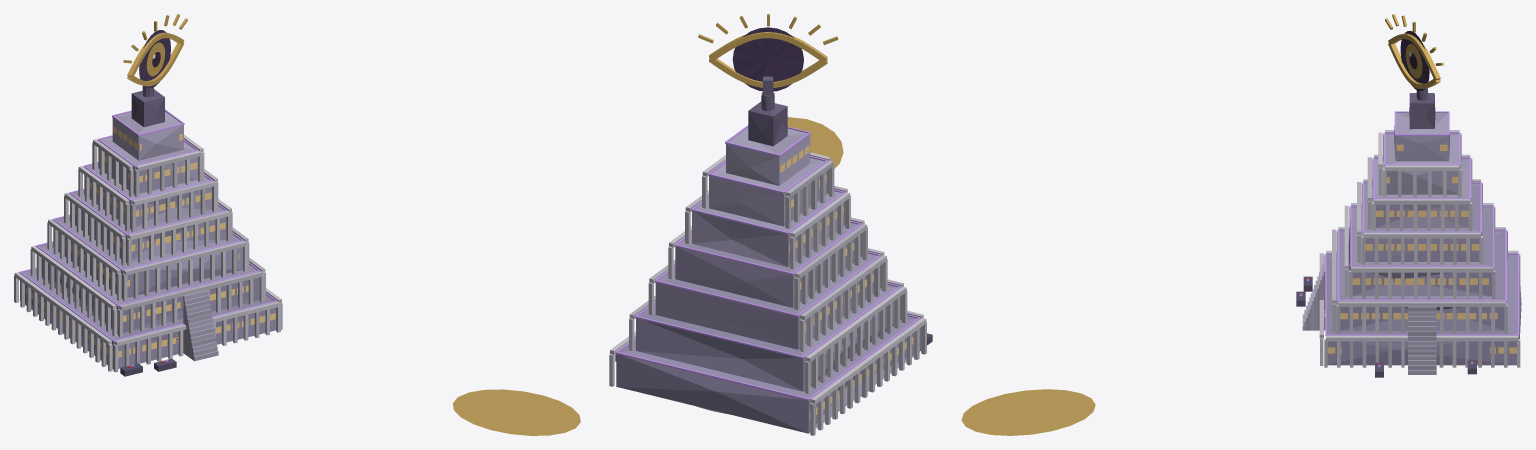
The model's file is halcyon_compound.glb.
The picture shows the model from 3 angles, left to right: view 1: azimuth 30°, elevation 25°; view 2: azimuth 150°, elevation 25°; view 3: azimuth 270°, elevation 25°; orthographic projection. The views are drawn at different scales.
Parts seen in each view (by area): view 1: hq_halcyon_toon, hq_halcyon_eye_neon, hq_halcyon_neon, hq_halcyon_win, hq_halcyon_eye_toon; view 2: hq_halcyon_toon, hq_halcyon_neon, hq_halcyon_eye_neon, hq_halcyon_eye_toon, hq_halcyon_win; view 3: hq_halcyon_toon, hq_halcyon_eye_neon, hq_halcyon_neon, hq_halcyon_win, hq_halcyon_eye_toon.
Part boxes in pixels (<box>): hq_halcyon_toon: <box>14,85,282,376</box>; hq_halcyon_eye_neon: <box>123,14,580,435</box>; hq_halcyon_neon: <box>19,109,277,366</box>; hq_halcyon_win: <box>25,126,275,357</box>; hq_halcyon_eye_toon: <box>139,30,170,88</box>; hq_halcyon_toon: <box>609,92,932,435</box>; hq_halcyon_neon: <box>615,125,920,400</box>; hq_halcyon_eye_neon: <box>698,14,843,168</box>; hq_halcyon_eye_toon: <box>732,27,803,95</box>; hq_halcyon_win: <box>780,145,913,419</box>; hq_halcyon_toon: <box>1296,88,1521,377</box>; hq_halcyon_eye_neon: <box>961,14,1443,435</box>; hq_halcyon_neon: <box>1299,111,1519,366</box>; hq_halcyon_win: <box>1327,144,1516,353</box>; hq_halcyon_eye_toon: <box>1400,31,1429,90</box>.
Bounding box in the file's own units: 103 × 94 × 157.
